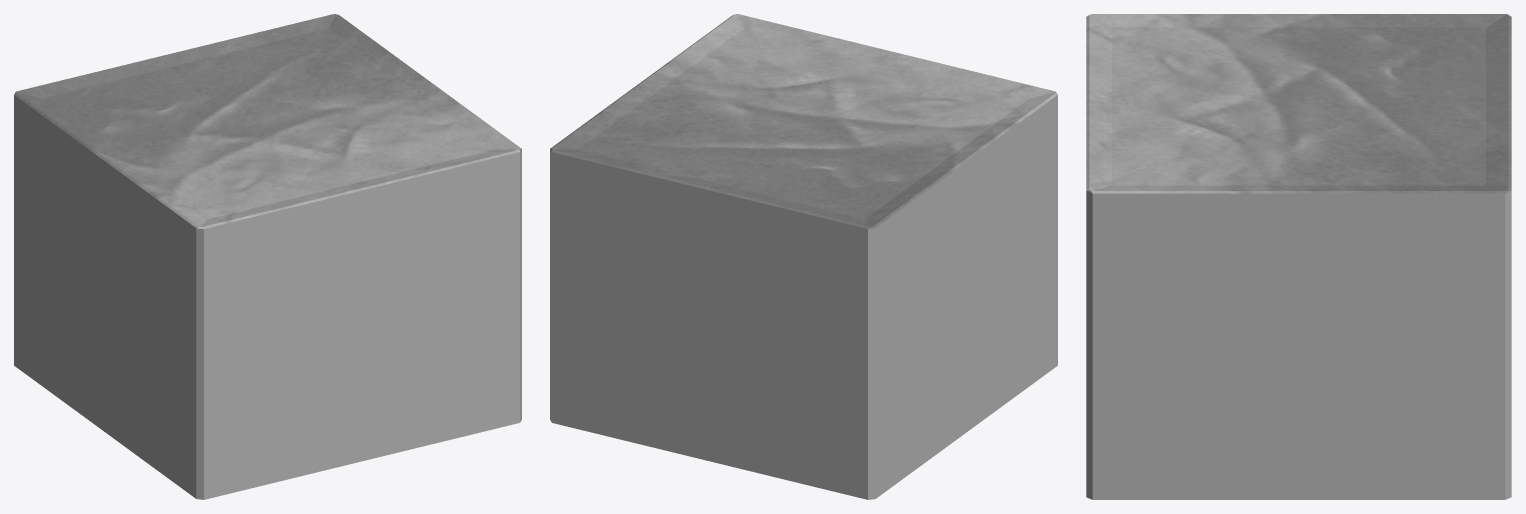
File: LargeSquareCake.fbx
3 renders of one model, left to right at view 1: azimuth 30°, elevation 25°; view 2: azimuth 150°, elevation 25°; view 3: azimuth 270°, elevation 25°, orthographic. The views are drawn at different scales.
Visible parts, largest first — view 1: Cube.001; view 2: Cube.001; view 3: Cube.001.
Boxes of the visible parts, box(x1,y1,x2,y2) form: Cube.001: box(14, 14, 521, 499); Cube.001: box(550, 14, 1057, 499); Cube.001: box(1086, 14, 1511, 499).
Bounding box in the file's own units: 25 × 19.97 × 25.
